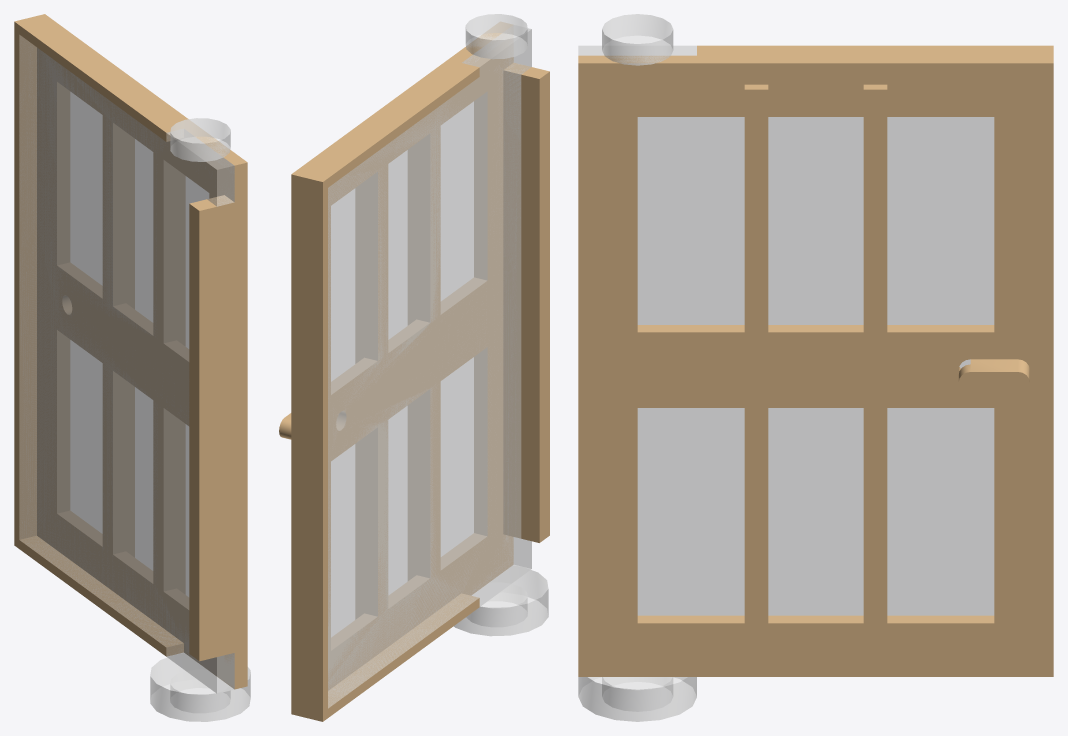
File: door.dae
3 renders of one model, left to right at view 1: azimuth 30°, elevation 25°; view 2: azimuth 150°, elevation 25°; view 3: azimuth 270°, elevation 25°, orthographic. The views are drawn at different scales.
Parts seen in each view (by area): view 1: Object; view 2: Object; view 3: Object.
Part boxes in pixels (left/top/right/bottom): Object: left=14, top=14, right=250, bottom=721; Object: left=279, top=14, right=549, bottom=721; Object: left=578, top=14, right=1053, bottom=721.
Bounding box in the file's own units: 0.008 × 0.032 × 0.0496.
